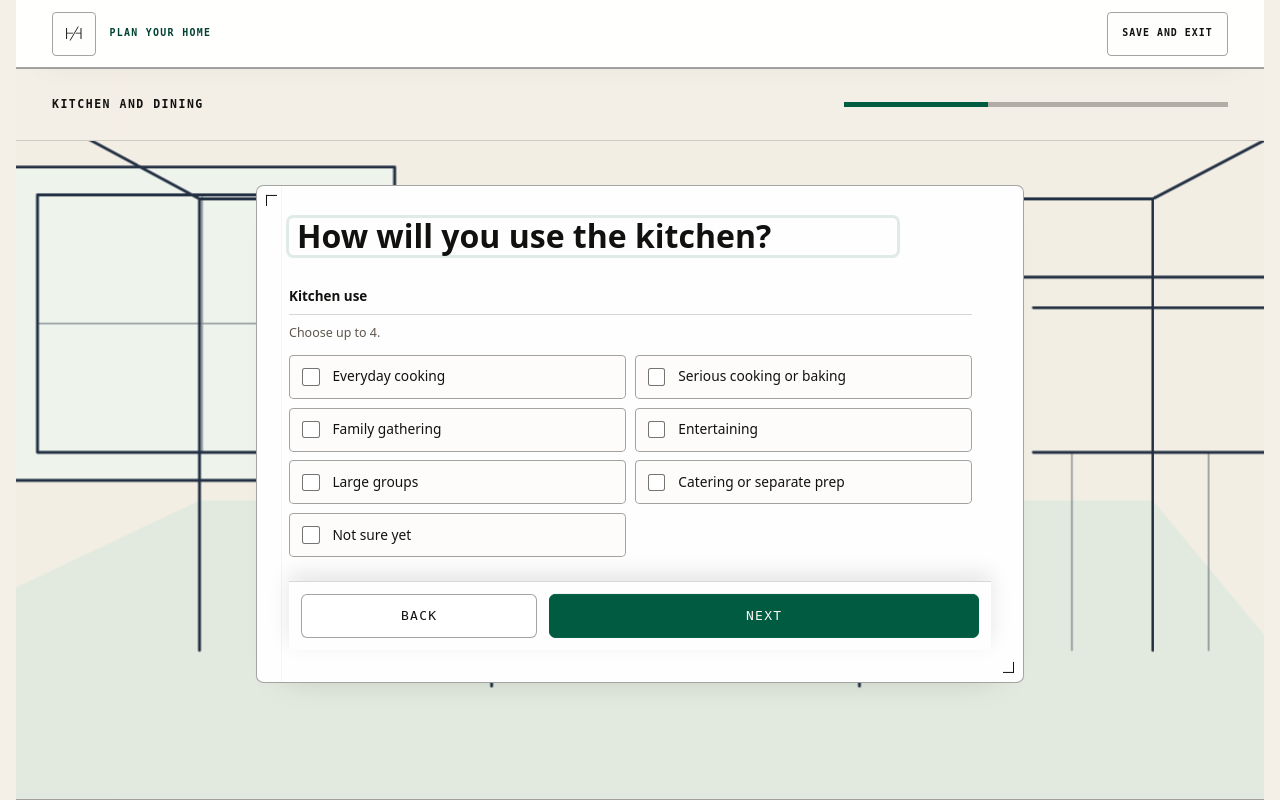
it: Back crosses the Living Room boundary without losing the kitchen answer
The width and height of the screenshot is (1280, 800).
Check: the heading "How will you use the kitchen?" is shown, box [289,218,897,255]
Click the checkbox labelled "Everyday cooking": [389, 376] box [289,355,626,399]
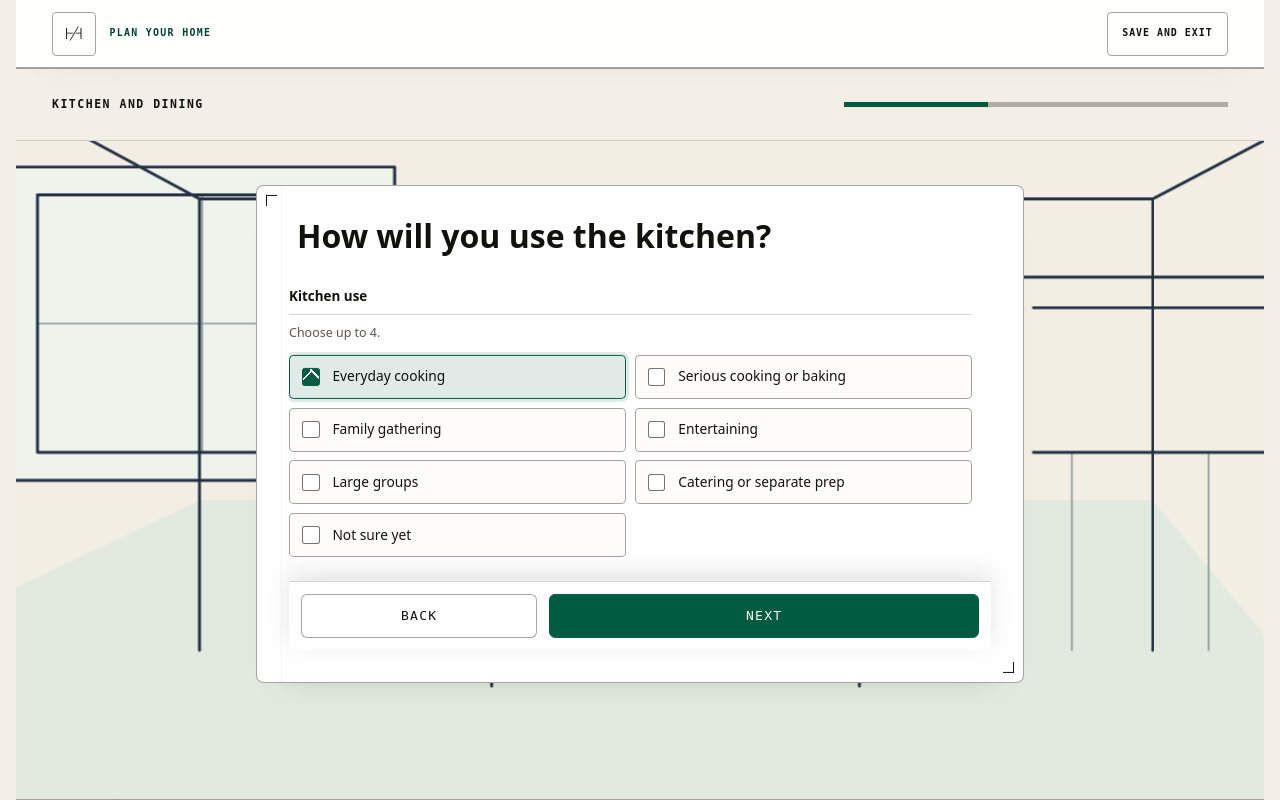
Click the button "Back": [419, 616] box [301,594,537,638]
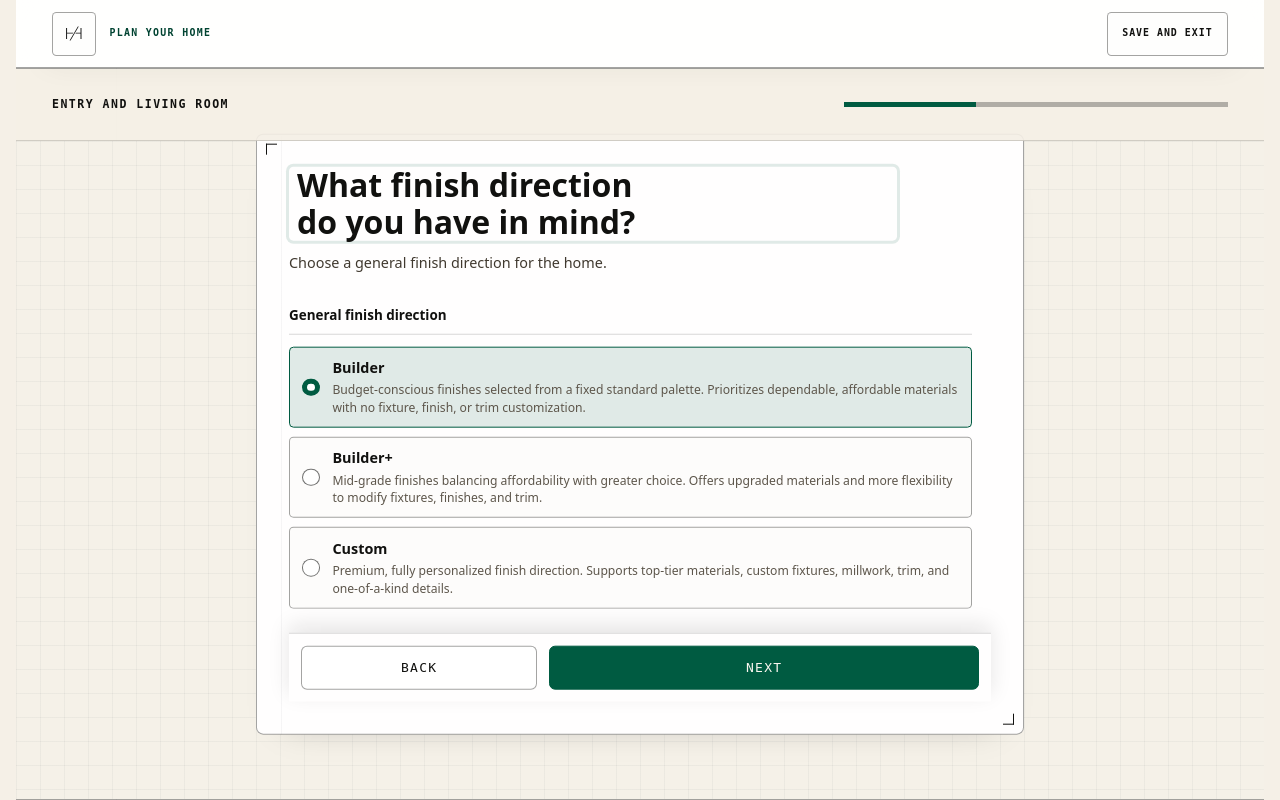
Check: the heading "What finish direction do you have in mind?" is shown, box [289,167,897,240]
Click the button "Next": [764, 667] box [549,645,979,689]
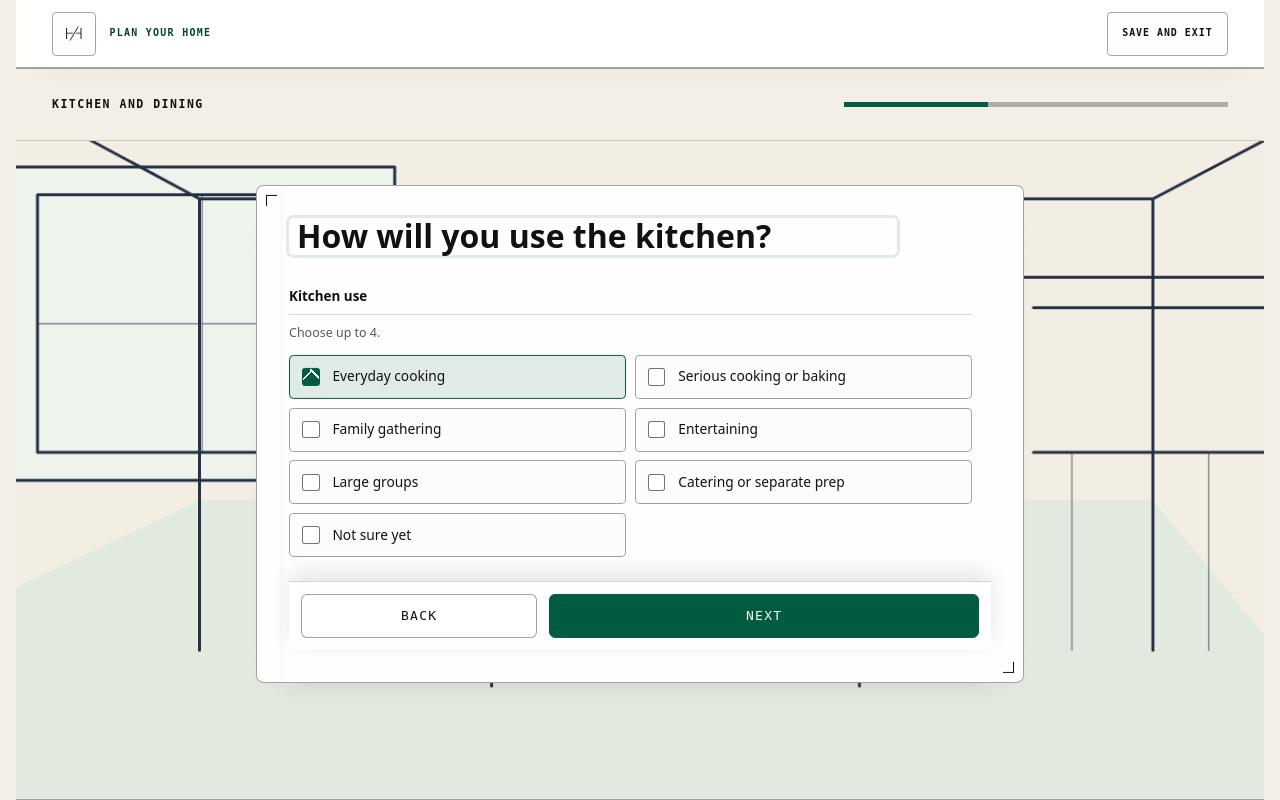
Check: the heading "How will you use the kitchen?" is shown, box [289,218,897,255]
